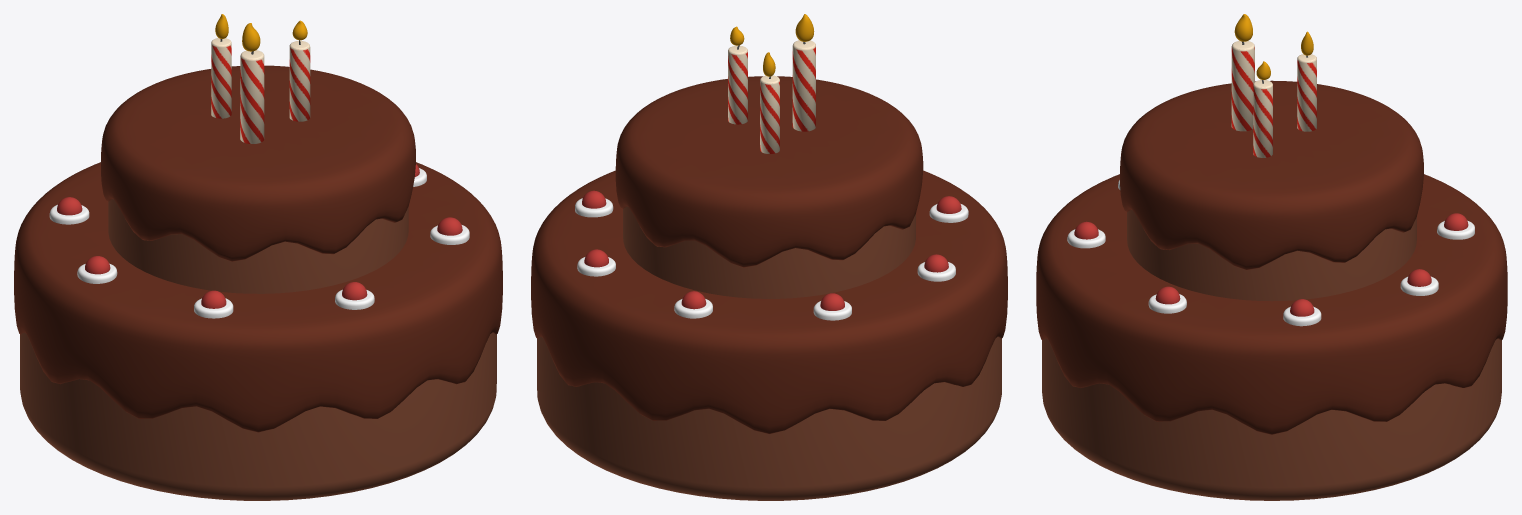
File: Cacke.fbx
The picture shows the model from 3 angles, left to right: view 1: azimuth 30°, elevation 25°; view 2: azimuth 150°, elevation 25°; view 3: azimuth 270°, elevation 25°; orthographic projection. The views are drawn at different scales.
Visible parts, largest first — view 1: Cube.004; view 2: Cube.004; view 3: Cube.004.
Boxes of the visible parts, bbox=[...] form: Cube.004: bbox=[14, 14, 502, 500]; Cube.004: bbox=[531, 14, 1007, 500]; Cube.004: bbox=[1036, 14, 1507, 500].
Size of the model in its own units: 205 by 186 by 205.
